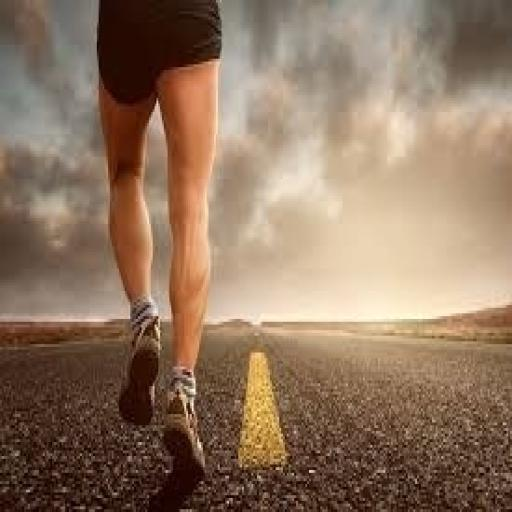running: (93, 0, 227, 481)
